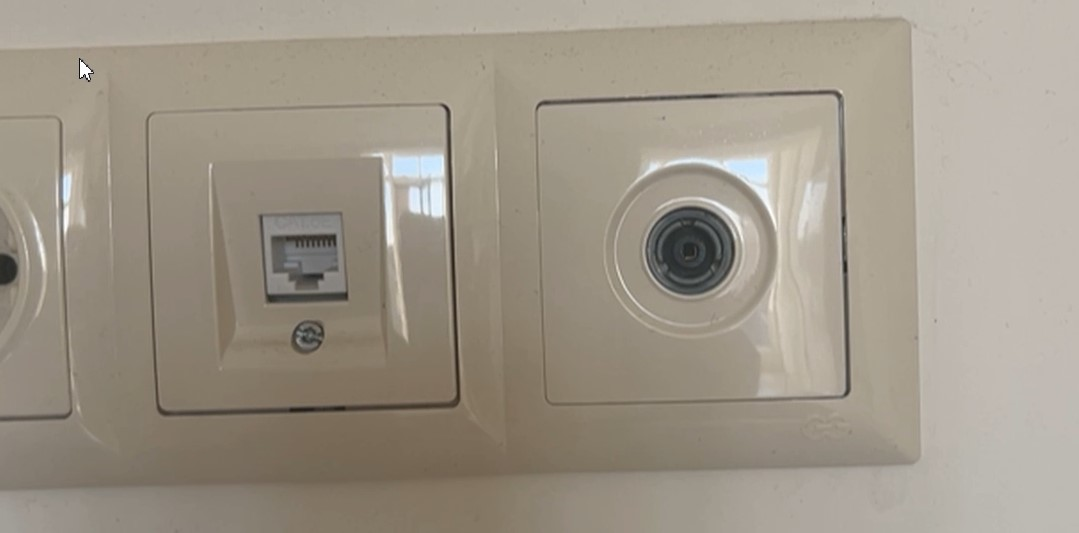Network Outlet: (102, 54, 503, 465)
TV Socket: (510, 47, 904, 449)
